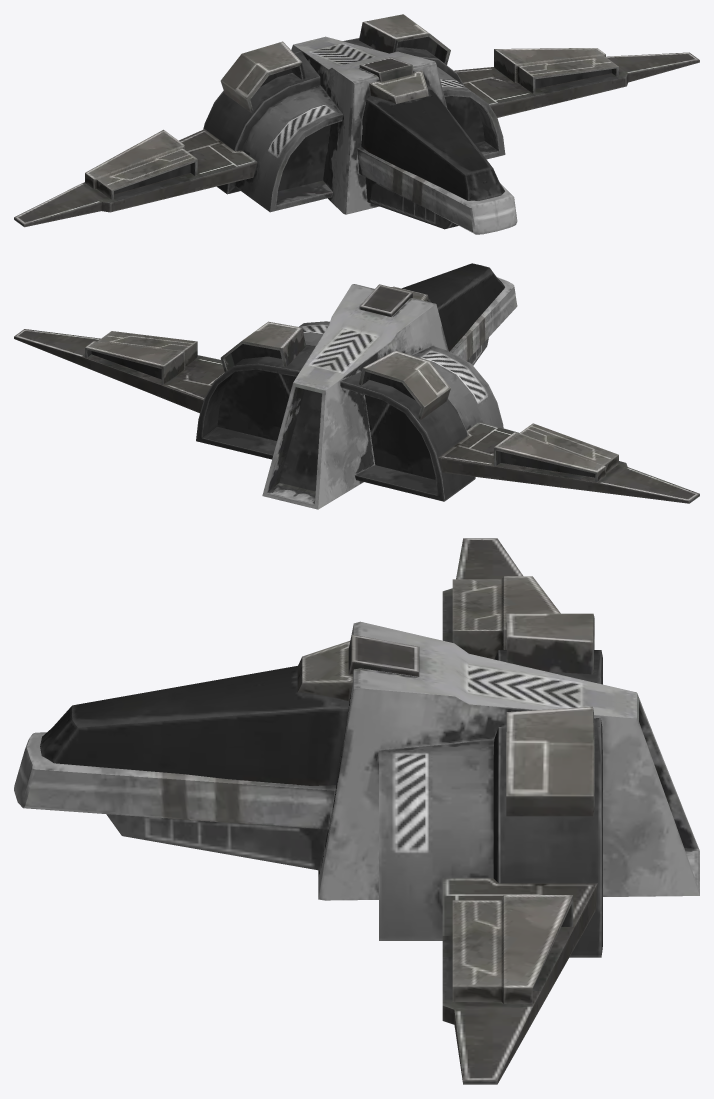
Rendered from bob.glb.
The picture shows the model from 3 angles, top to bottom: view 1: azimuth 30°, elevation 25°; view 2: azimuth 150°, elevation 25°; view 3: azimuth 270°, elevation 25°; orthographic projection. The views are drawn at different scales.
Visible parts, largest first — view 1: Bob; view 2: Bob; view 3: Bob.
Part boxes in pixels (x1,y1,x2,y2): Bob: (14,14,699,234); Bob: (14,263,699,509); Bob: (14,538,699,1084).
Bounding box in the file's own units: 10.5 × 2.04 × 5.61.
Materials: 1 (1 with a texture image).
